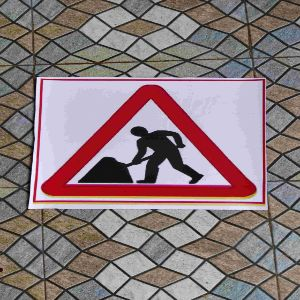men at work: (37, 76, 262, 205)
